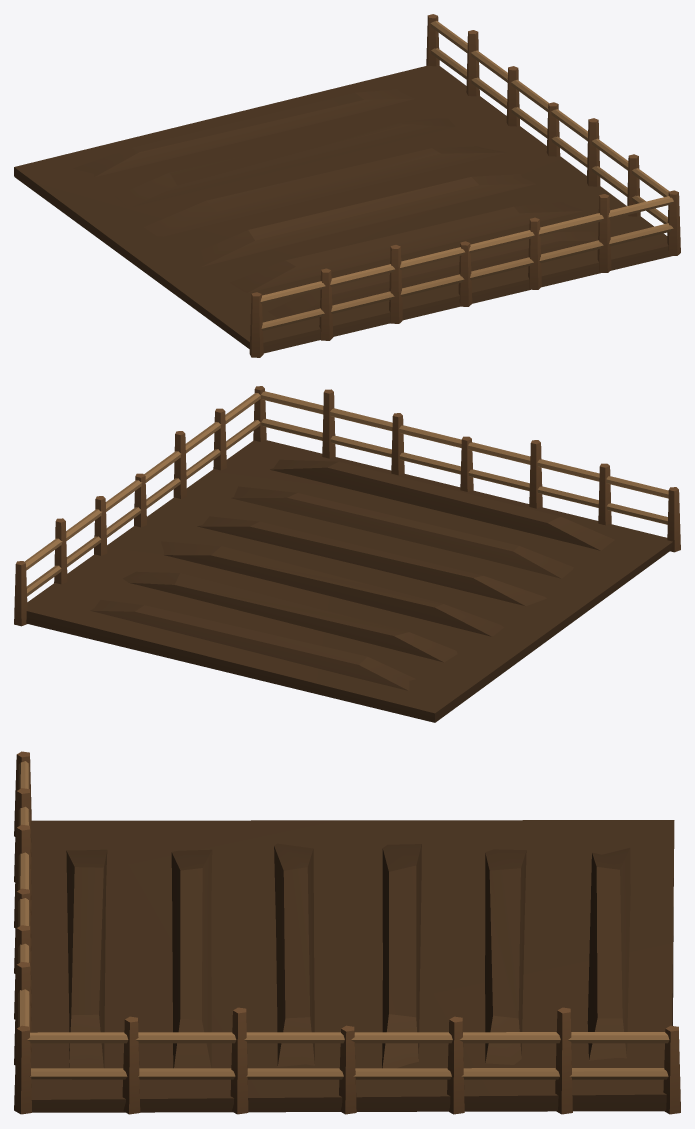
File: farm_s1.glb
The picture shows the model from 3 angles, top to bottom: view 1: azimuth 30°, elevation 25°; view 2: azimuth 150°, elevation 25°; view 3: azimuth 270°, elevation 25°; orthographic projection. The views are drawn at different scales.
Parts seen in each view (by area): view 1: farm_s1; view 2: farm_s1; view 3: farm_s1.
Part boxes in pixels (<box>): farm_s1: <box>14,14,680,357</box>; farm_s1: <box>14,386,680,722</box>; farm_s1: <box>14,751,680,1114</box>.
Size of the model in its own units: 2 by 0.3369 by 1.99.
